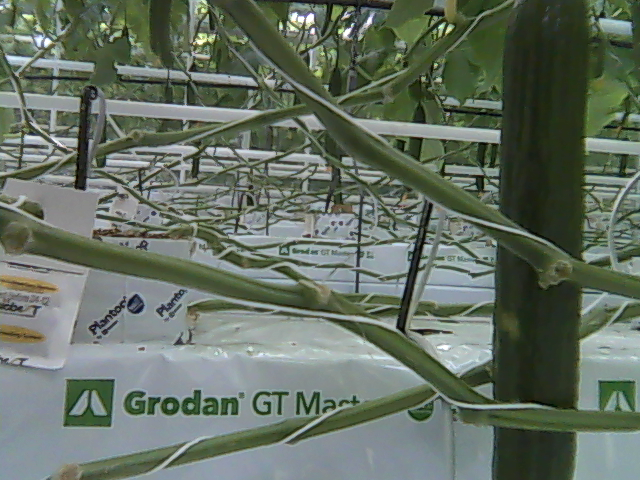concombre: (488, 3, 593, 480)
